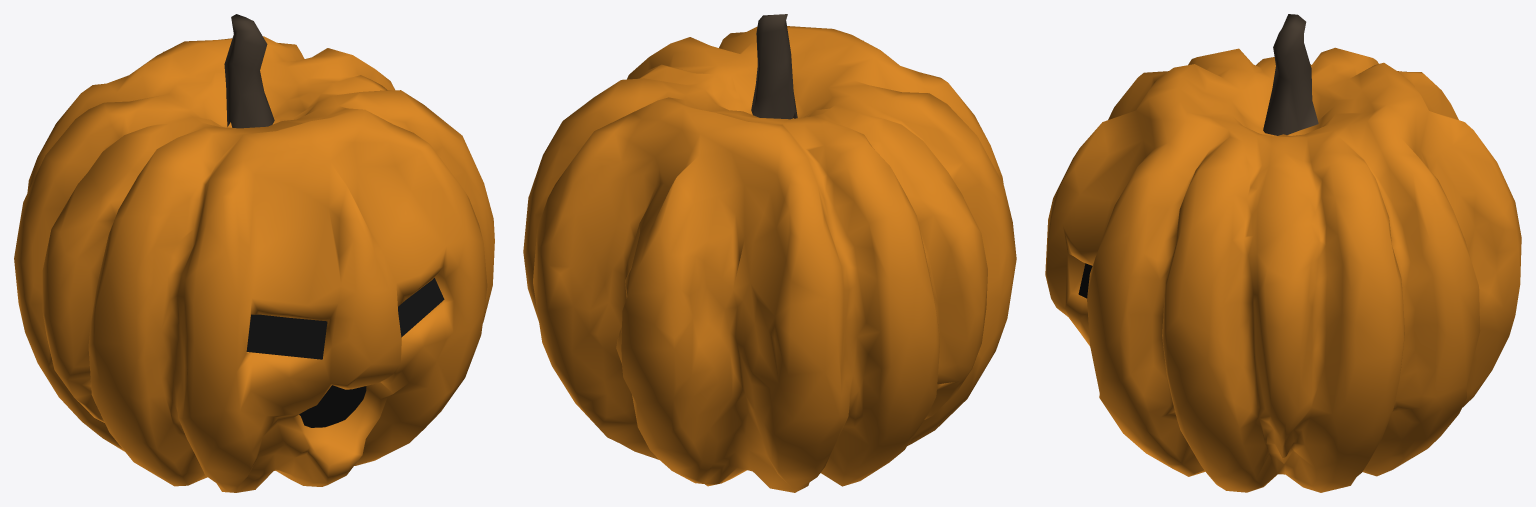
File: pumpkin-openmouth.fbx
The picture shows the model from 3 angles, left to right: view 1: azimuth 30°, elevation 25°; view 2: azimuth 150°, elevation 25°; view 3: azimuth 270°, elevation 25°; orthographic projection. The views are drawn at different scales.
Parts seen in each view (by area): view 1: Sculpt, Sculpt.001, Plane.001, Circle, Plane; view 2: Sculpt, Sculpt.001; view 3: Sculpt, Sculpt.001.
Part boxes in pixels (x1=…): Sculpt: x1=14, y1=36, x2=494, y2=492; Sculpt.001: x1=224, y1=14, x2=274, y2=128; Plane.001: x1=246, y1=314, x2=327, y2=359; Circle: x1=299, y1=385, x2=366, y2=427; Plane: x1=398, y1=278, x2=444, y2=337; Sculpt: x1=523, y1=26, x2=1016, y2=492; Sculpt.001: x1=751, y1=14, x2=797, y2=119; Sculpt: x1=1045, y1=47, x2=1521, y2=492; Sculpt.001: x1=1263, y1=14, x2=1318, y2=135.
Bounding box in the file's own units: 200 × 200 × 200.
